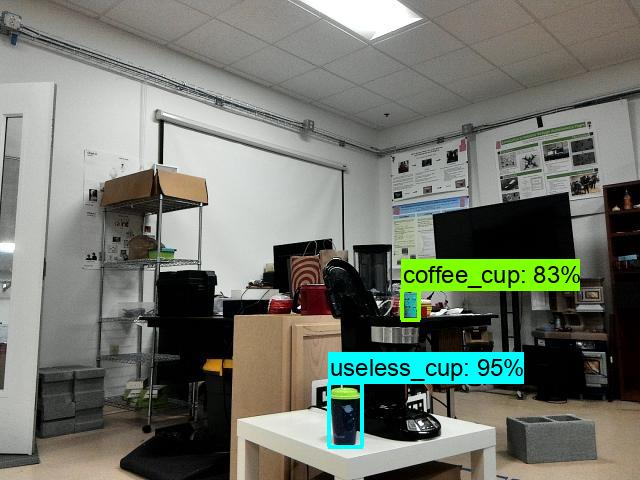coffee_cup: (400, 290, 420, 319)
useless_cup: (327, 385, 363, 444)
